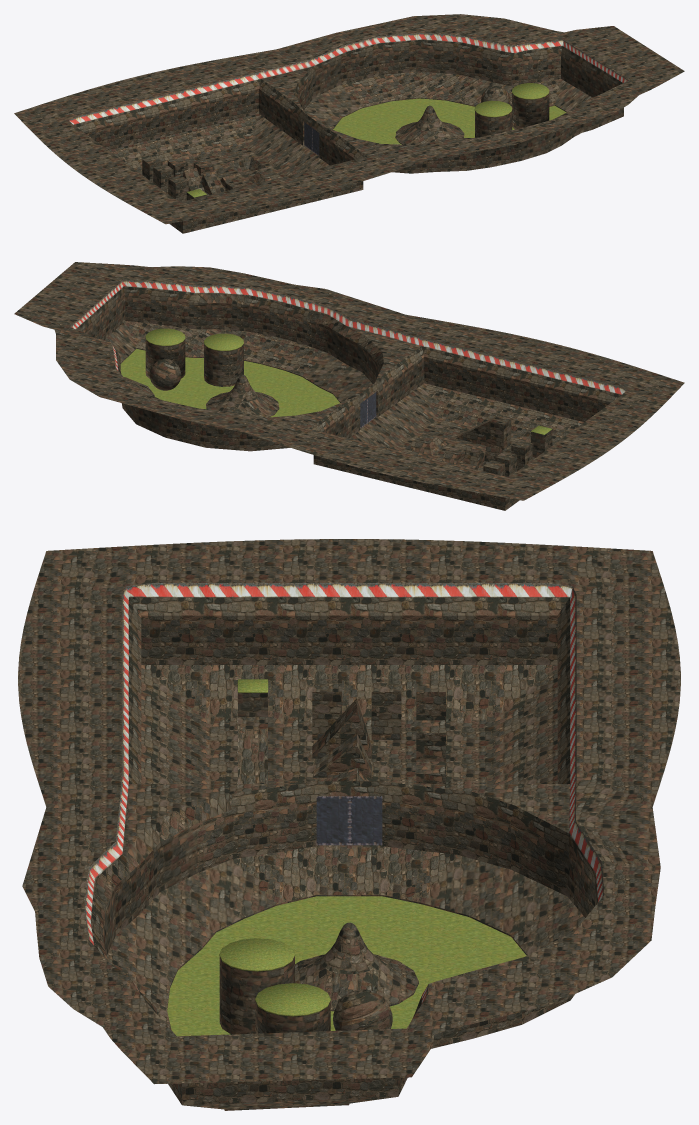
The model's file is testmap.fbx.
The picture shows the model from 3 angles, top to bottom: view 1: azimuth 30°, elevation 25°; view 2: azimuth 150°, elevation 25°; view 3: azimuth 270°, elevation 25°; orthographic projection. The views are drawn at different scales.
Parts seen in each view (by area): view 1: Grid, Cylinder, Cylinder.001, Sphere; view 2: Grid, Cylinder.001, Cylinder, Sphere, Grid.001; view 3: Grid, Cylinder.001, Cylinder, Sphere, door1_right, door1_left, Grid.001.
Boxes of the visible parts, x1,y1,x2,y2 form: Grid: (14, 14, 684, 233); Cylinder: (512, 83, 549, 129); Cylinder.001: (474, 100, 512, 137); Sphere: (481, 86, 510, 104); Grid: (14, 262, 684, 510); Cylinder.001: (204, 333, 243, 386); Cylinder: (145, 328, 185, 378); Sphere: (149, 359, 181, 390); Grid.001: (531, 425, 552, 457); Grid: (18, 539, 680, 1110); Cylinder.001: (219, 938, 295, 1034); Cylinder: (255, 983, 330, 1033); Sphere: (333, 989, 392, 1030); door1_right: (316, 796, 349, 845); door1_left: (350, 796, 382, 845); Grid.001: (237, 679, 268, 716).
Bounding box in the file's own units: 7317 × 740 × 3759.
